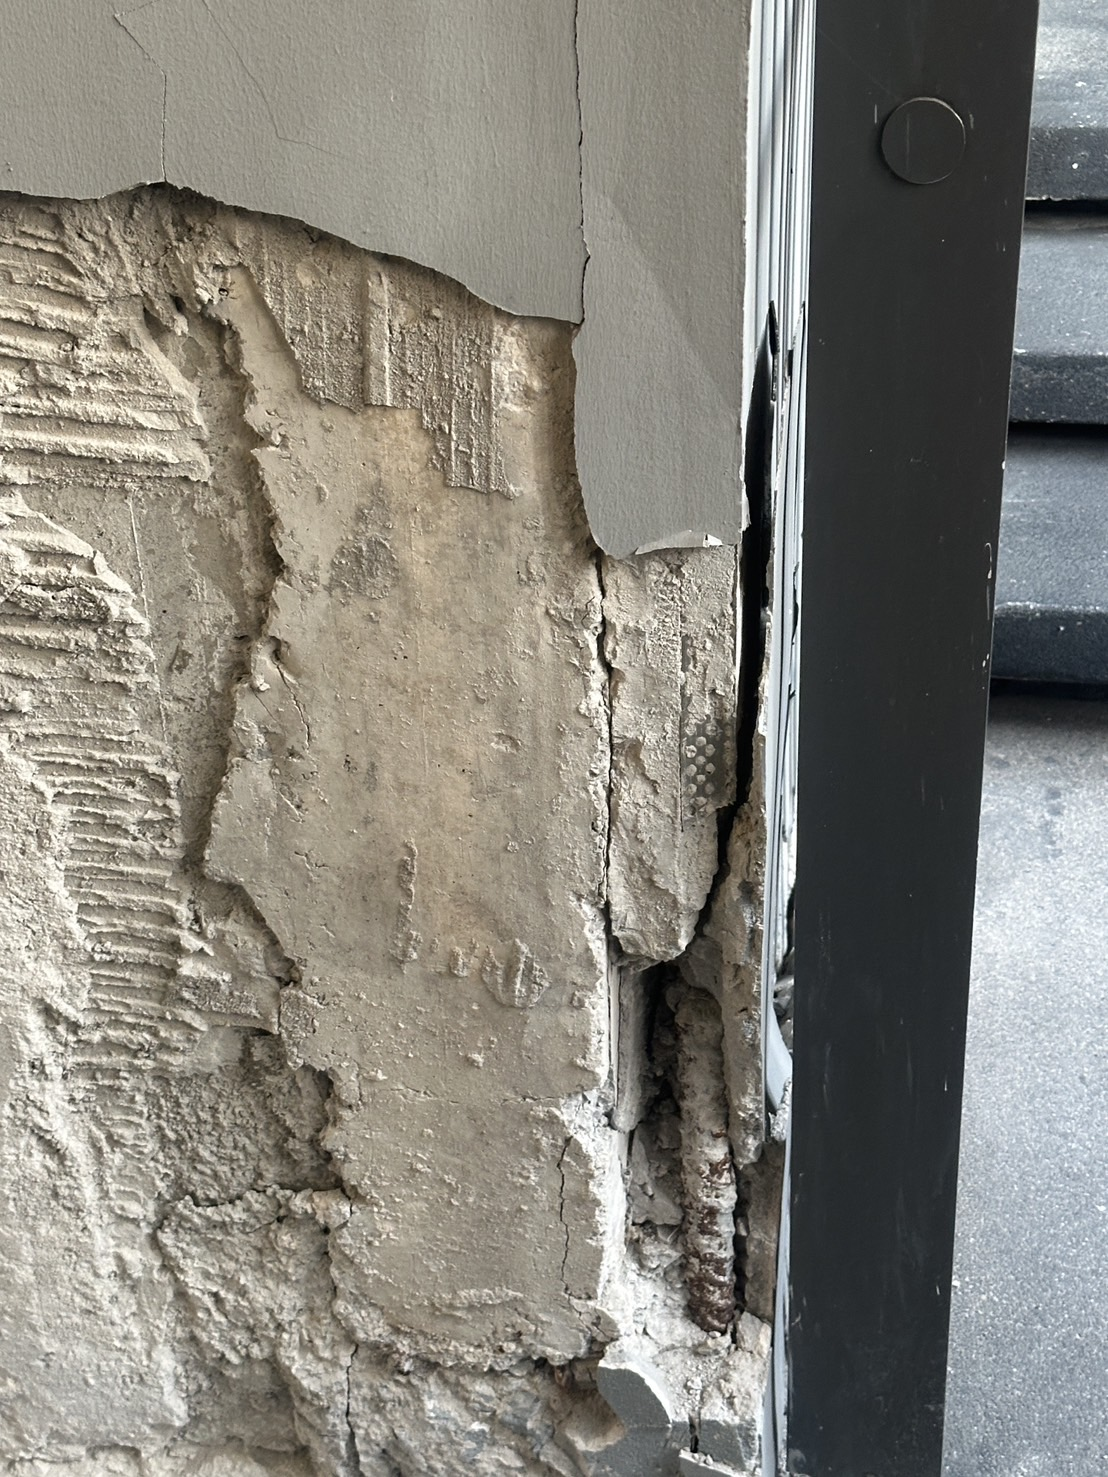High: (5, 139, 805, 1474)
